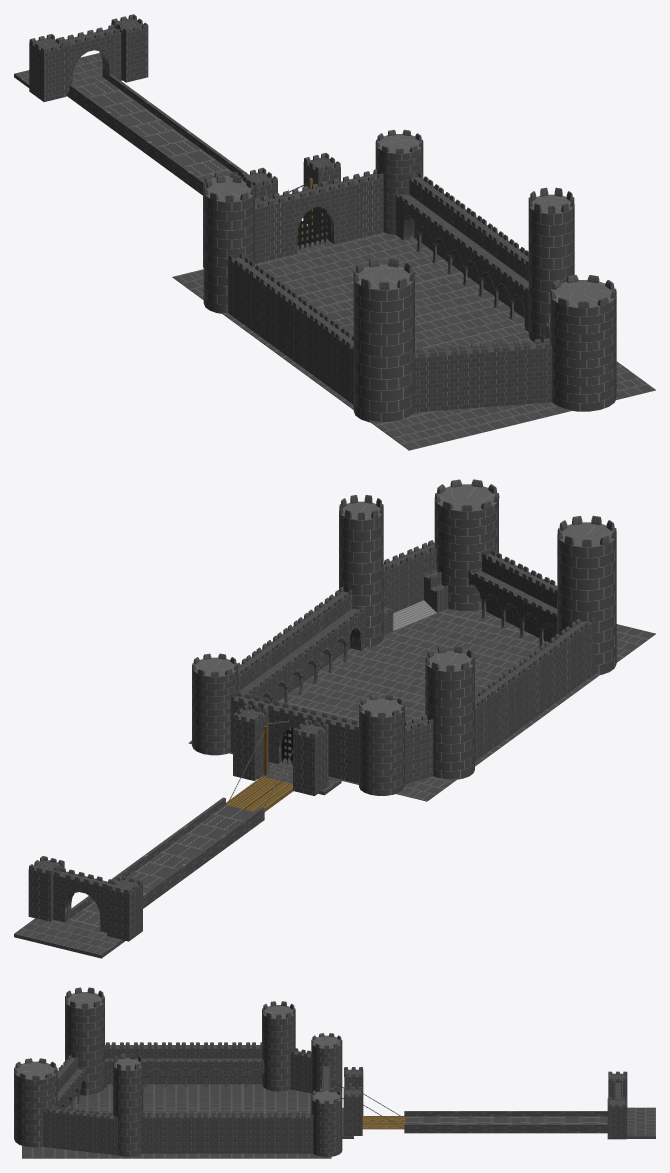
File: CastleCourtyard1.FBX
3 renders of one model, top to bottom at view 1: azimuth 30°, elevation 25°; view 2: azimuth 150°, elevation 25°; view 3: azimuth 270°, elevation 25°, orthographic. The views are drawn at different scales.
Parts seen in each view (by area): view 1: Floor, Turret004, Turret006, Turret003, Turret005, Box001, WallSegment045, Turret002, Archway1, Box003, SquareTurret004, Archway002 (+27 smaller); view 2: Floor, Turret004, Turret006, Turret003, Turret005, Turret1, Turret002, Box001, WallSegment045, EntryBalcony001, SquareTurret002, SquareTurret1 (+15 smaller); view 3: Floor, Turret004, Turret006, Turret005, Turret003, Box002, Turret002, WallSegment031, Box001, Turret1, Box003, EntryBalcony001 (+35 smaller).
Boxes of the visible parts, left/top/right/bottom form: Floor: left=172, top=232, right=655, bottom=450; Turret004: left=353, top=264, right=414, bottom=422; Turret006: left=550, top=280, right=616, bottom=411; Turret003: left=203, top=180, right=254, bottom=313; Turret005: left=528, top=194, right=574, bottom=342; Box001: left=76, top=79, right=232, bottom=180; WallSegment045: left=396, top=194, right=528, bottom=331; Turret002: left=375, top=134, right=423, bottom=234; Archway1: left=280, top=182, right=346, bottom=255; Box003: left=66, top=84, right=204, bottom=195; SquareTurret004: left=29, top=38, right=66, bottom=101; Archway002: left=60, top=28, right=121, bottom=92; Floor: left=188, top=608, right=655, bottom=801; Turret004: left=557, top=522, right=616, bottom=674; Turret006: left=434, top=484, right=498, bottom=610; Turret003: left=425, top=651, right=474, bottom=779; Turret005: left=339, top=501, right=383, bottom=647; Turret1: left=359, top=698, right=404, bottom=795; Turret002: left=192, top=657, right=237, bottom=755; Box001: left=69, top=805, right=253, bottom=926; WallSegment045: left=239, top=608, right=365, bottom=700; EntryBalcony001: left=14, top=918, right=125, bottom=958; SquareTurret002: left=293, top=724, right=328, bottom=795; SquareTurret1: left=233, top=709, right=268, bottom=780; Floor: left=22, top=1084, right=331, bottom=1158; Turret004: left=65, top=992, right=104, bottom=1094; Turret006: left=14, top=1061, right=57, bottom=1147; Turret005: left=113, top=1058, right=143, bottom=1156; Turret003: left=262, top=1005, right=295, bottom=1091; Box002: left=404, top=1124, right=607, bottom=1133; Turret002: left=311, top=1091, right=342, bottom=1156; WallSegment031: left=104, top=1058, right=264, bottom=1087; Box001: left=405, top=1116, right=607, bottom=1123; Turret1: left=311, top=1035, right=342, bottom=1094; Box003: left=404, top=1111, right=607, bottom=1116; EntryBalcony001: left=627, top=1107, right=655, bottom=1138.
Bounding box in the file's own units: 417 × 230 × 1402.
Materials: 10 (9 with a texture image).
